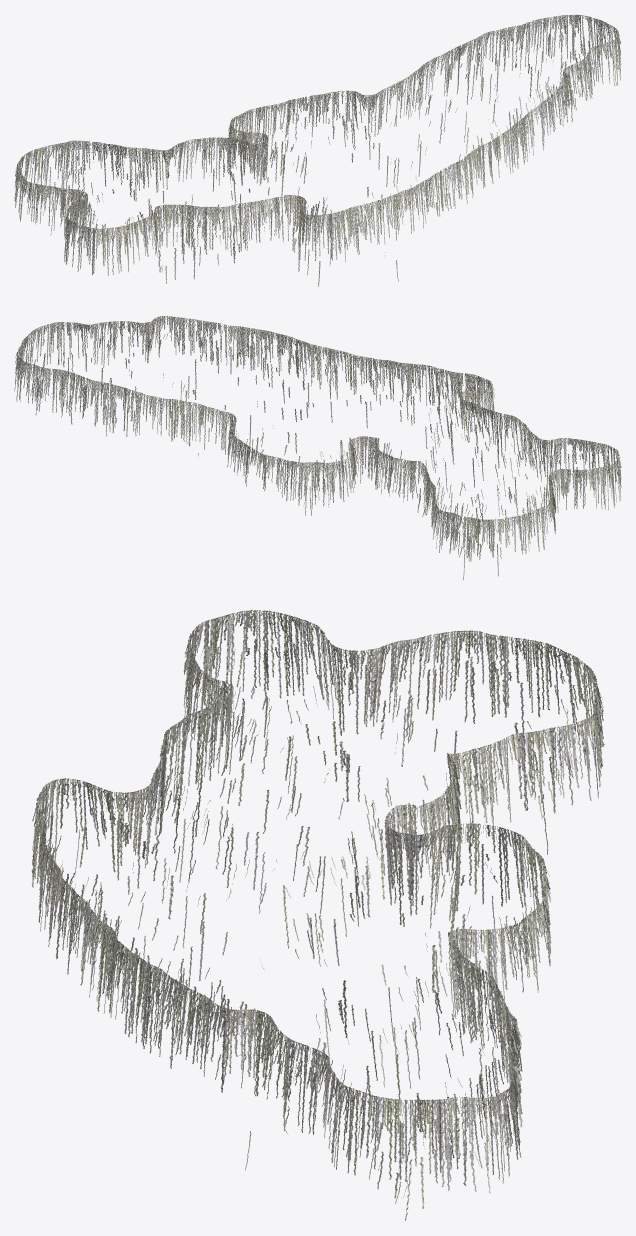
Rendered from SM_H12_Vines.fbx.
3 renders of one model, top to bottom at view 1: azimuth 30°, elevation 25°; view 2: azimuth 150°, elevation 25°; view 3: azimuth 270°, elevation 25°, orthographic. The views are drawn at different scales.
Parts seen in each view (by area): view 1: SM_H12_Vines; view 2: SM_H12_Vines; view 3: SM_H12_Vines.
Part boxes in pixels (<box>): SM_H12_Vines: <box>14,14,621,286</box>; SM_H12_Vines: <box>14,316,621,580</box>; SM_H12_Vines: <box>31,610,604,1220</box>.
Bounding box in the file's own units: 395 × 107 × 177.
